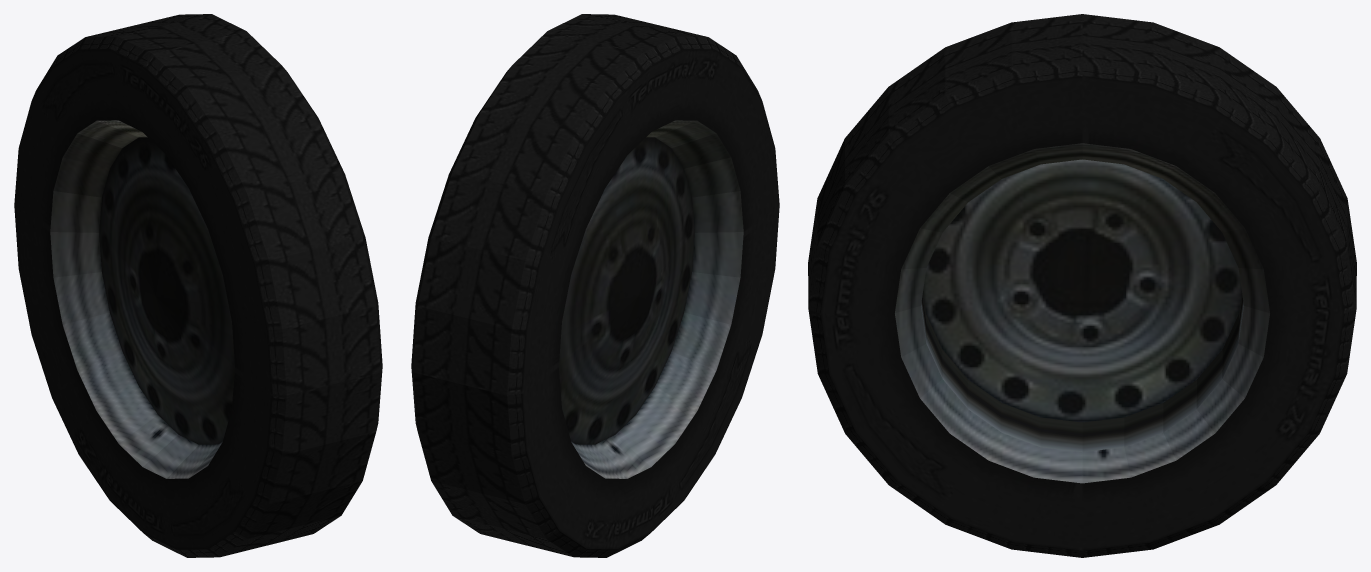
Rendered from GFH6KIREXIT36D0CGBV1LEHFG.gltf.
3 renders of one model, left to right at view 1: azimuth 30°, elevation 25°; view 2: azimuth 150°, elevation 25°; view 3: azimuth 270°, elevation 25°, orthographic. The views are drawn at different scales.
Size of the model in its own units: 0.6005 by 2.5 by 2.5.
1 material, 1 textured.
